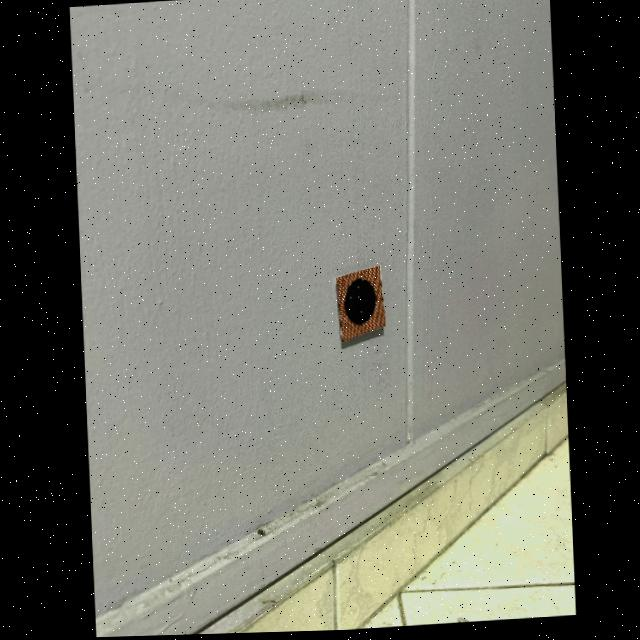CIRCLE: (344, 281, 376, 326)
